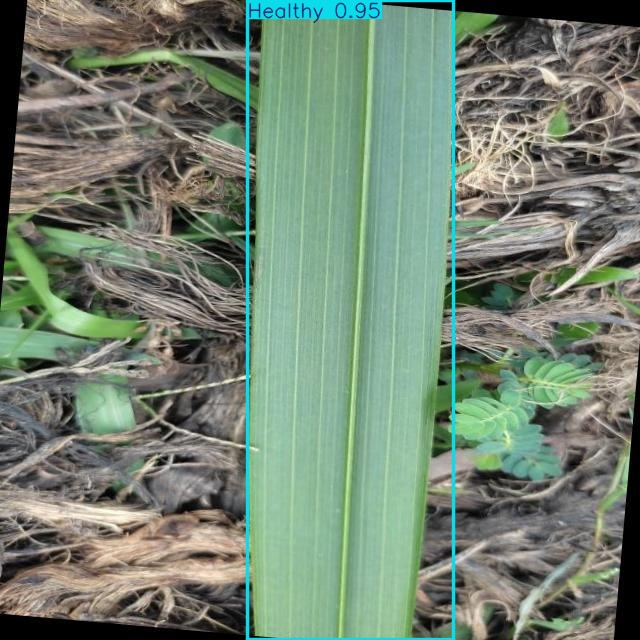Healthy: (247, 0, 453, 640)
